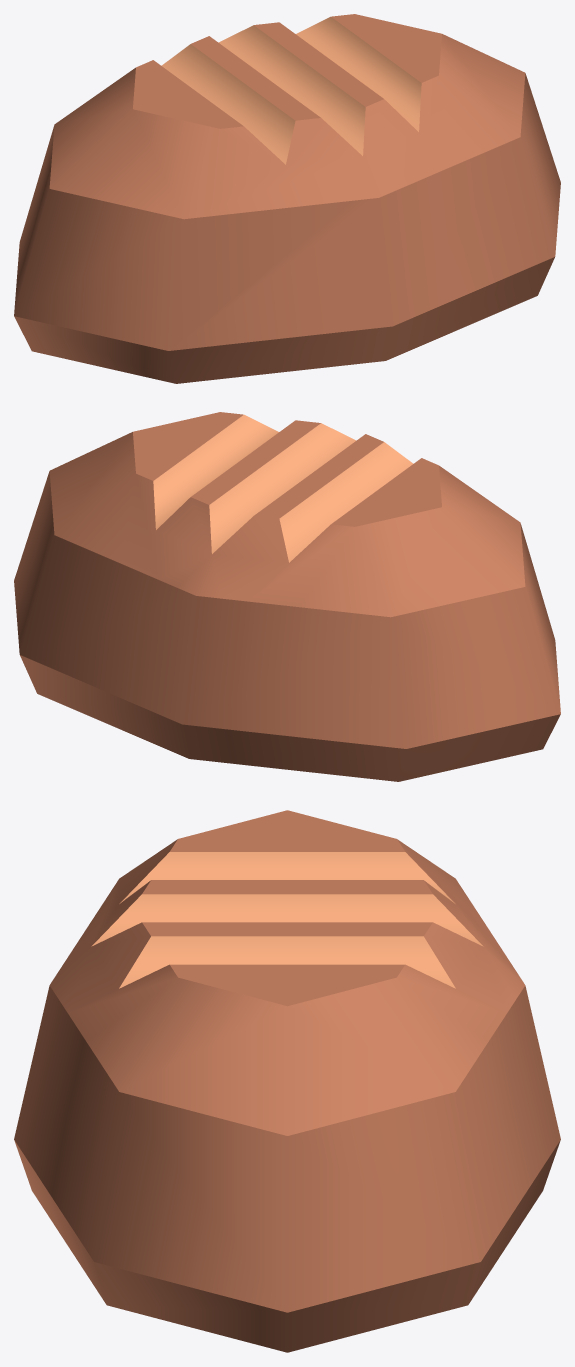
File: loafRound.GLB
The picture shows the model from 3 angles, top to bottom: view 1: azimuth 30°, elevation 25°; view 2: azimuth 150°, elevation 25°; view 3: azimuth 270°, elevation 25°; orthographic projection. The views are drawn at different scales.
Parts seen in each view (by area): view 1: loafRound; view 2: loafRound; view 3: loafRound.
Boxes of the visible parts, x1=… form: loafRound: x1=14, y1=14, x2=560, y2=383; loafRound: x1=14, y1=412, x2=560, y2=781; loafRound: x1=14, y1=810, x2=560, y2=1352.
Size of the model in its own units: 0.7717 by 0.2932 by 0.5145.
